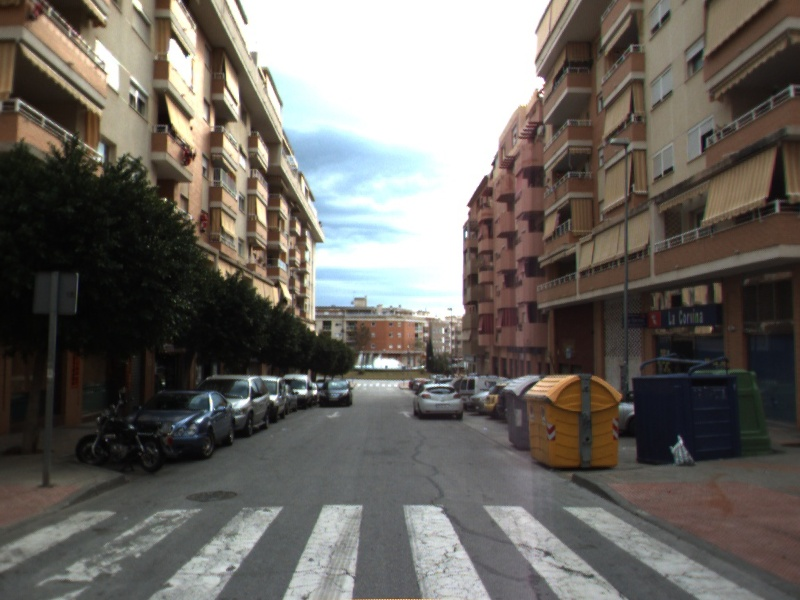STRAIGHT: (396, 409, 415, 419)
